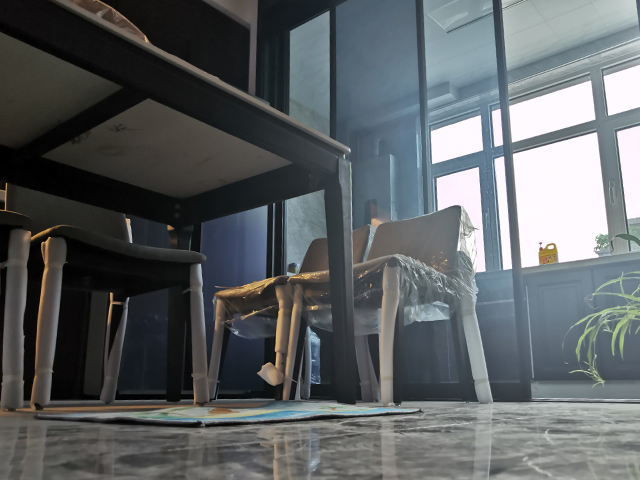cabinet: (521, 250, 640, 400)
carpet: (31, 403, 426, 430)
stool: (204, 202, 495, 407), (1, 181, 210, 414)
table: (1, 15, 355, 407)
